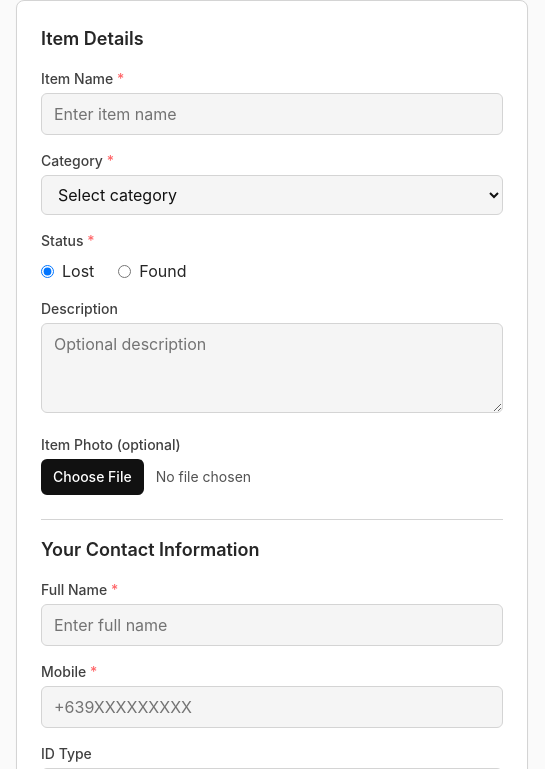
Test: LogItemForm › shows correct contact section heading based on status
Expected: the heading "Your Contact Information" is shown, 41,539 -> 260,560
Expected: the text "surrenderer details" is not shown
Toggle to found, should show "Surrenderer Details"
What coordinates should you click on to do the following:
click the radio button labelled "Found"
I would click on:
 (125, 271)
Its box is 118,264 -> 131,278.
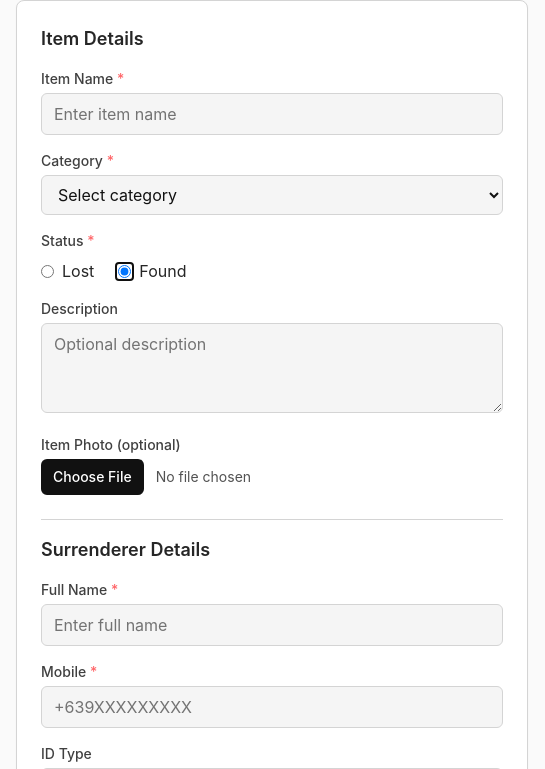
Expected: the heading "Surrenderer Details" is shown, 41,539 -> 210,560
Expected: the heading "Your Contact Information" is gone
Toggle back to lost, should show contact info again
What coordinates should you click on to do the following:
click the radio button labelled "Lost"
I would click on:
 (48, 271)
Its box is 41,264 -> 54,278.
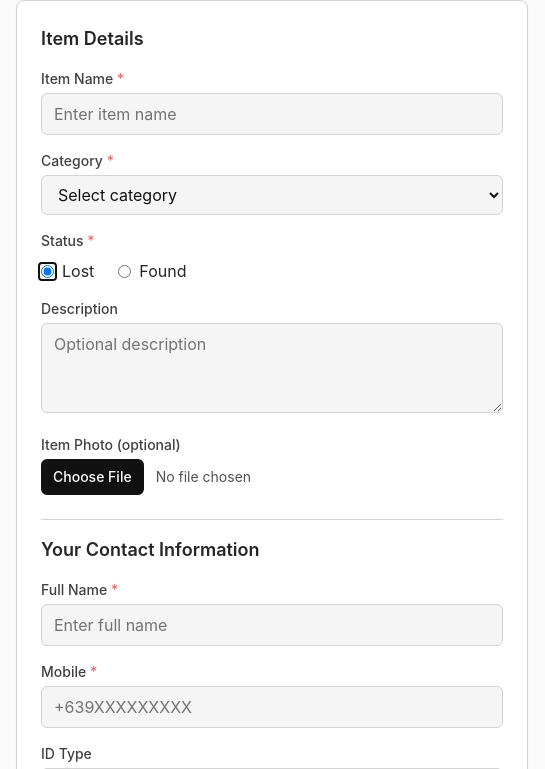
Expected: the heading "Your Contact Information" is shown, 41,539 -> 260,560
Expected: the heading "Surrenderer Details" is gone
